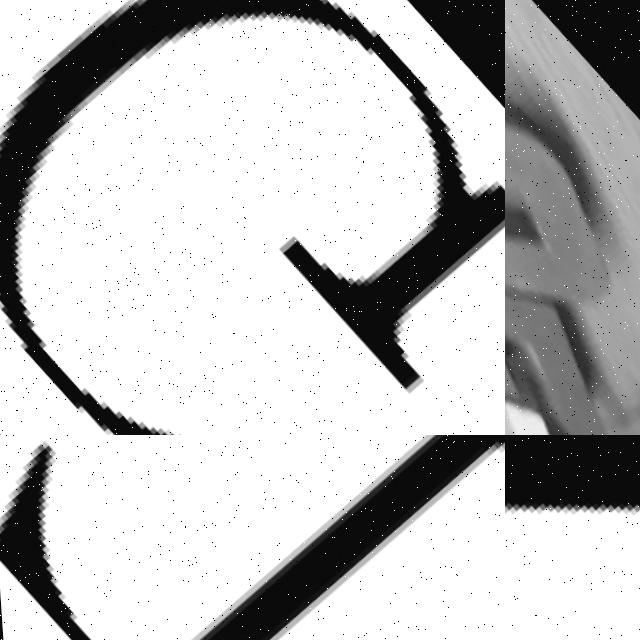E: (505, 120, 640, 435)
G: (0, 0, 505, 435)
J: (505, 21, 640, 391)
K: (505, 435, 640, 640)
T: (0, 435, 505, 640)
